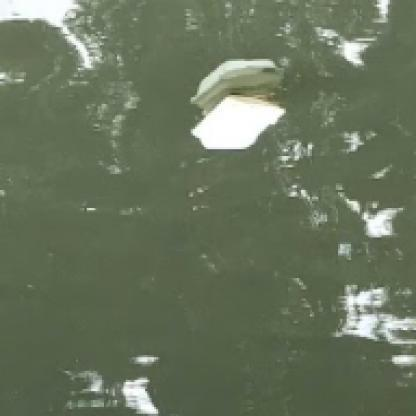Plastic: (190, 93, 289, 153)
